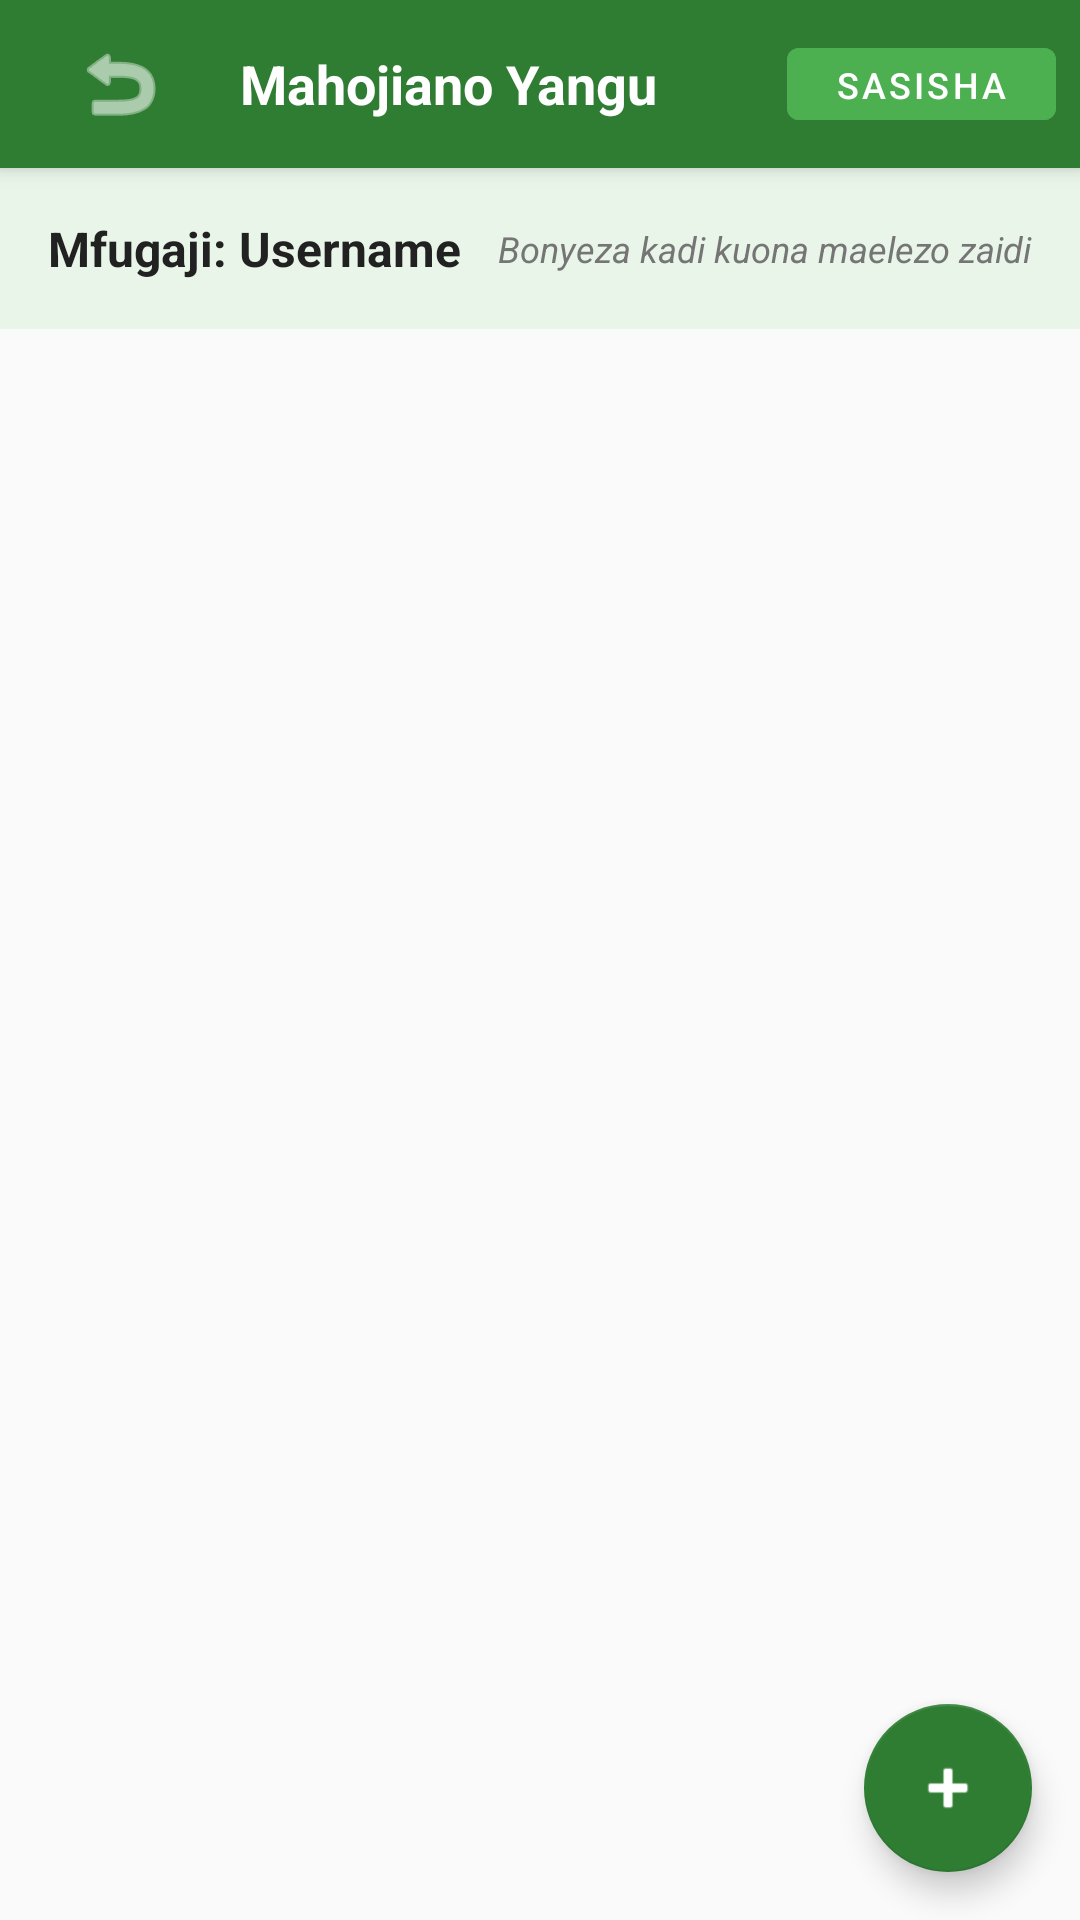

Named icons in this screenshot (1080px x 1920px) and their bounding boxes, Rect(x1, y1, x2, y2):
Omba ushauri mpya: Rect(864, 1704, 1032, 1872)
Rudi nyuma: Rect(87, 53, 156, 116)
